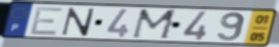4: (181, 10, 210, 42), (105, 8, 131, 40)
9: (216, 11, 246, 42)
E: (27, 6, 65, 37)
M: (130, 8, 180, 41)
N: (59, 7, 97, 37)
